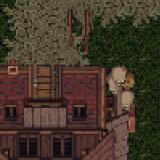Interaction: (59, 2, 100, 44)
Obstacle: (0, 28, 151, 160)
